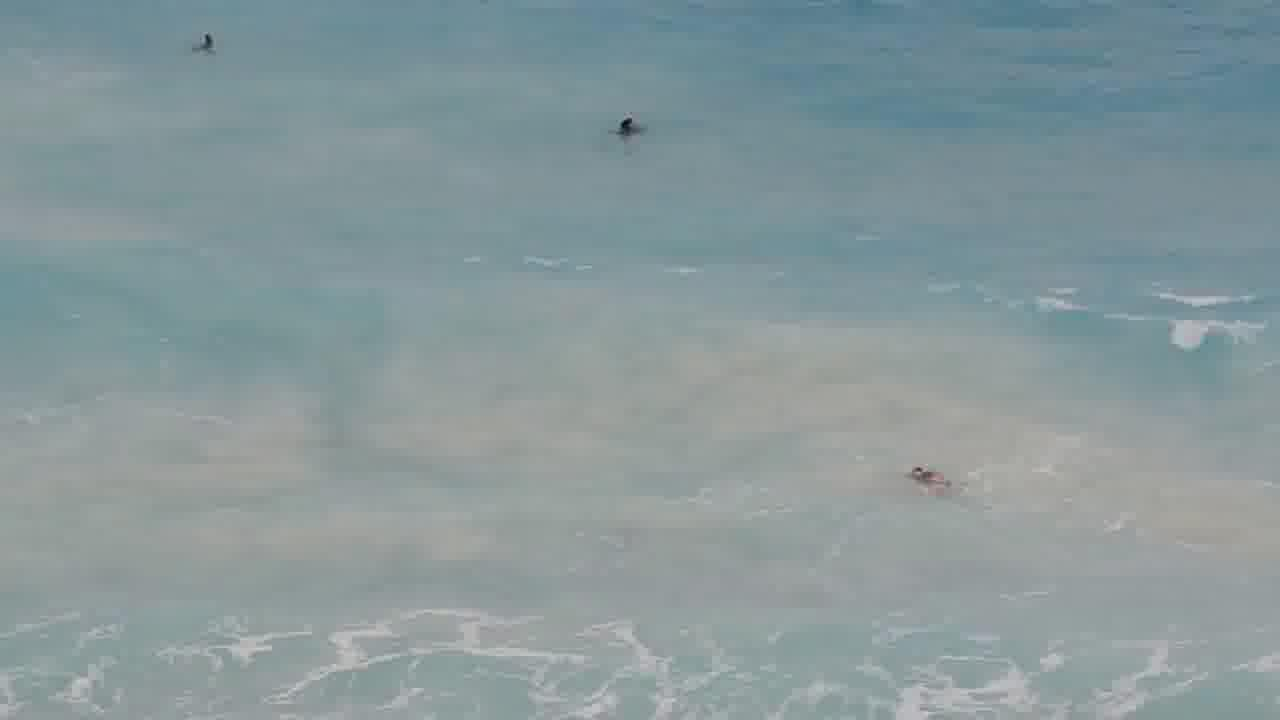swimmer: (598, 106, 662, 156), (901, 452, 961, 497), (183, 30, 226, 53)
